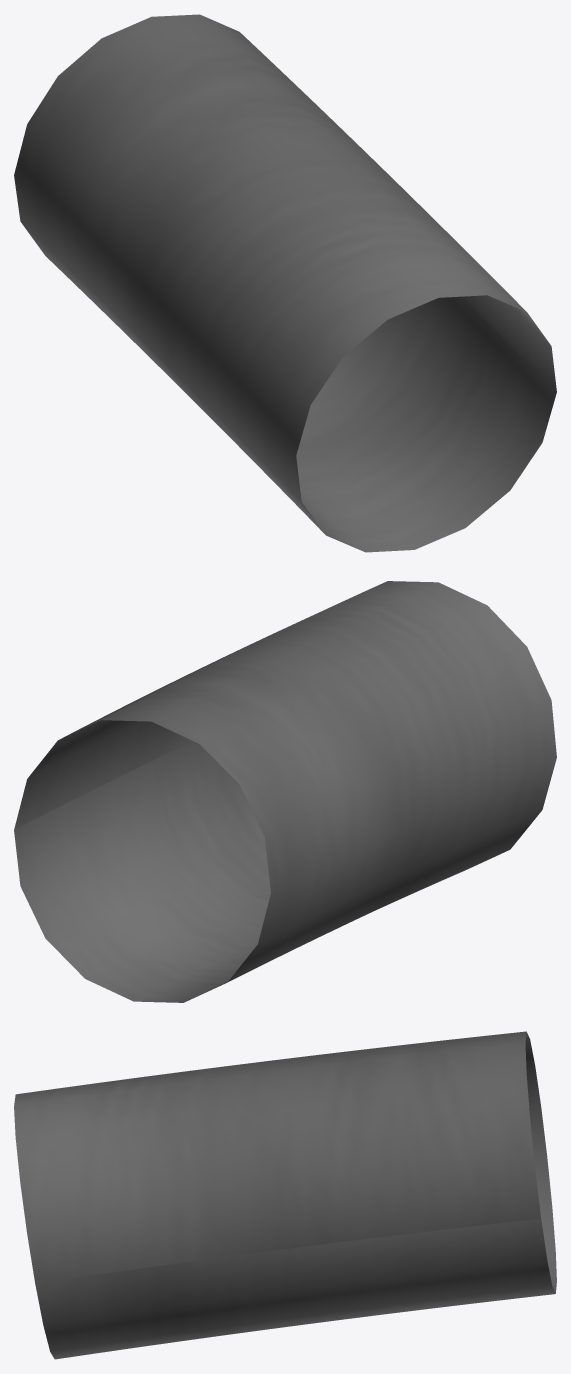
Rendered from mastarmcurve_10x2_c8.obj.
3 views of the same model, one above another, from view 1: azimuth 30°, elevation 25°; view 2: azimuth 150°, elevation 25°; view 3: azimuth 270°, elevation 25° (orthographic). The views are drawn at different scales.
Parts seen in each view (by area): view 1: mastarm_10x2_c8; view 2: mastarm_10x2_c8; view 3: mastarm_10x2_c8.
Boxes of the visible parts, bbox=[...] form: mastarm_10x2_c8: bbox=[14, 14, 556, 552]; mastarm_10x2_c8: bbox=[14, 581, 556, 1002]; mastarm_10x2_c8: bbox=[14, 1031, 556, 1359].
Bounding box in the file's own units: 0.53 × 0.6611 × 1.07.
